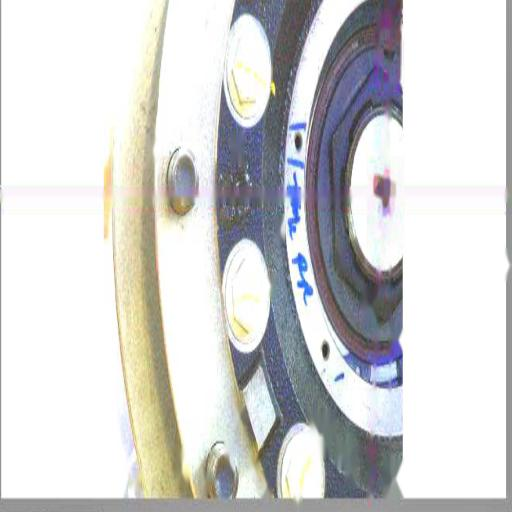center: (379, 174, 392, 214)
notch: (382, 44, 399, 74)
